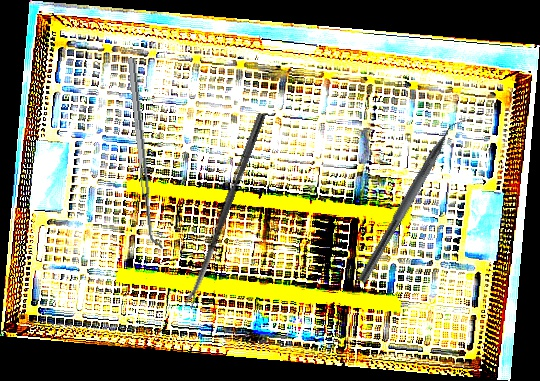Chopper: (357, 107, 473, 291)
Spatula Surgical: (127, 56, 164, 251)
Surgical Spoon: (183, 112, 266, 309)
